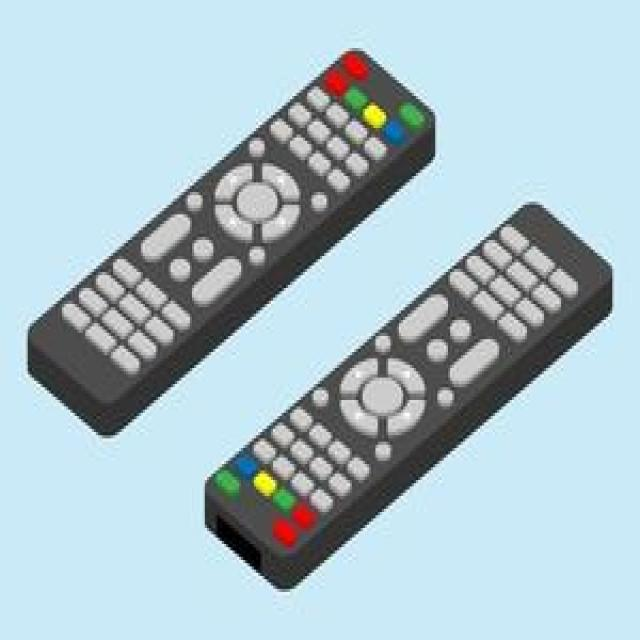remote: (199, 194, 611, 599), (27, 50, 437, 444)
